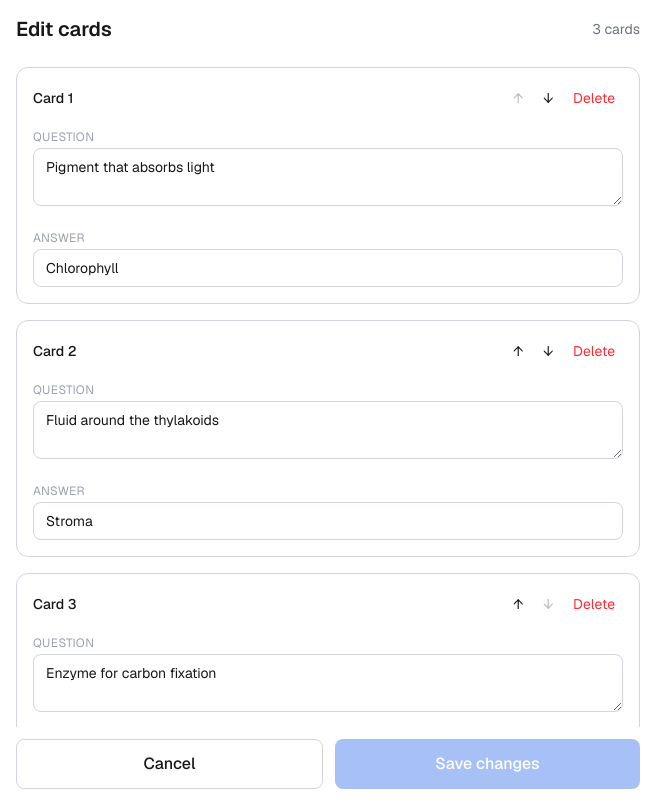
CardEditor: flashcards › shows errors that aren't about one card below the list
Replace the text in the text box labelled "Question" below "Card 1" with "changed" at (328, 177), box [33,148,623,206]
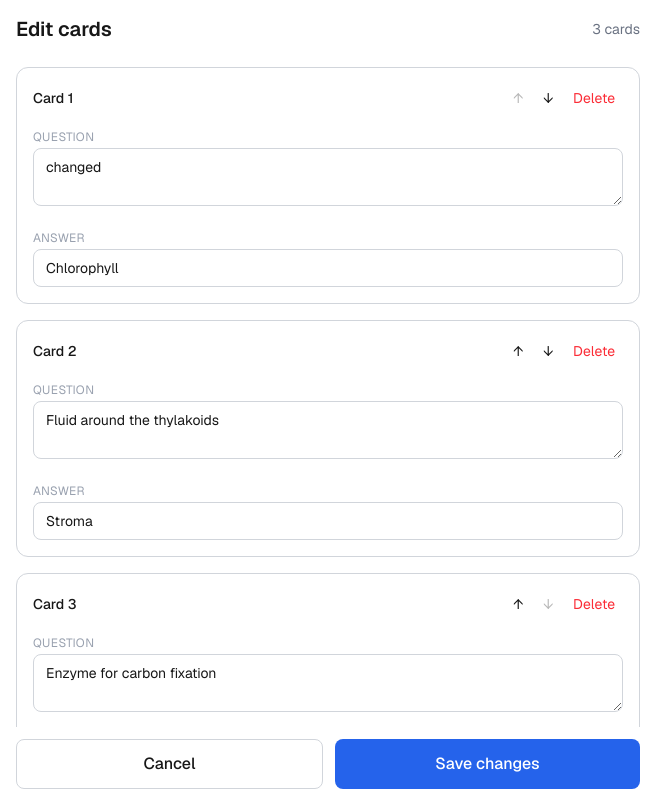
Click the button "Save changes" at (488, 764), box [335,739,640,789]
(page scrolled)
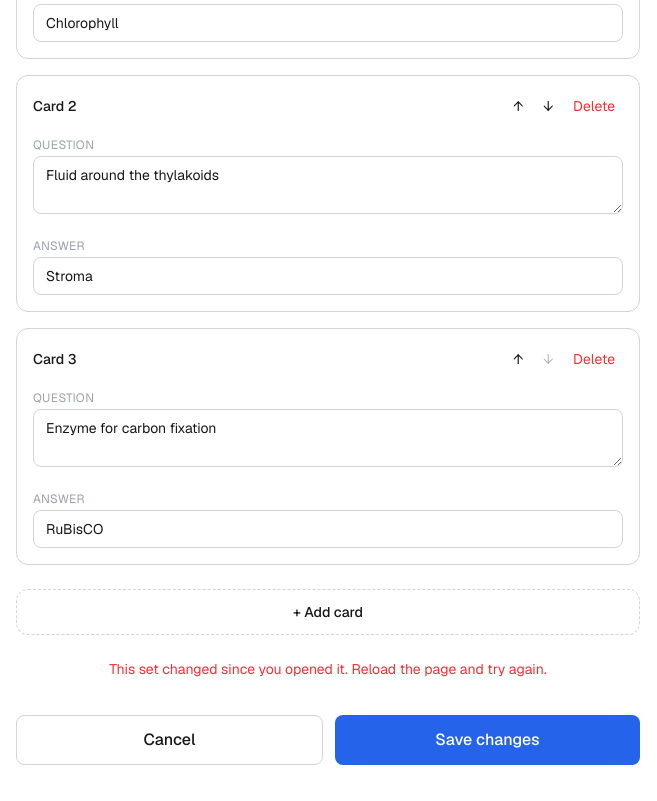
Result: the message shows "Reload the page" at [109,660,547,678]
